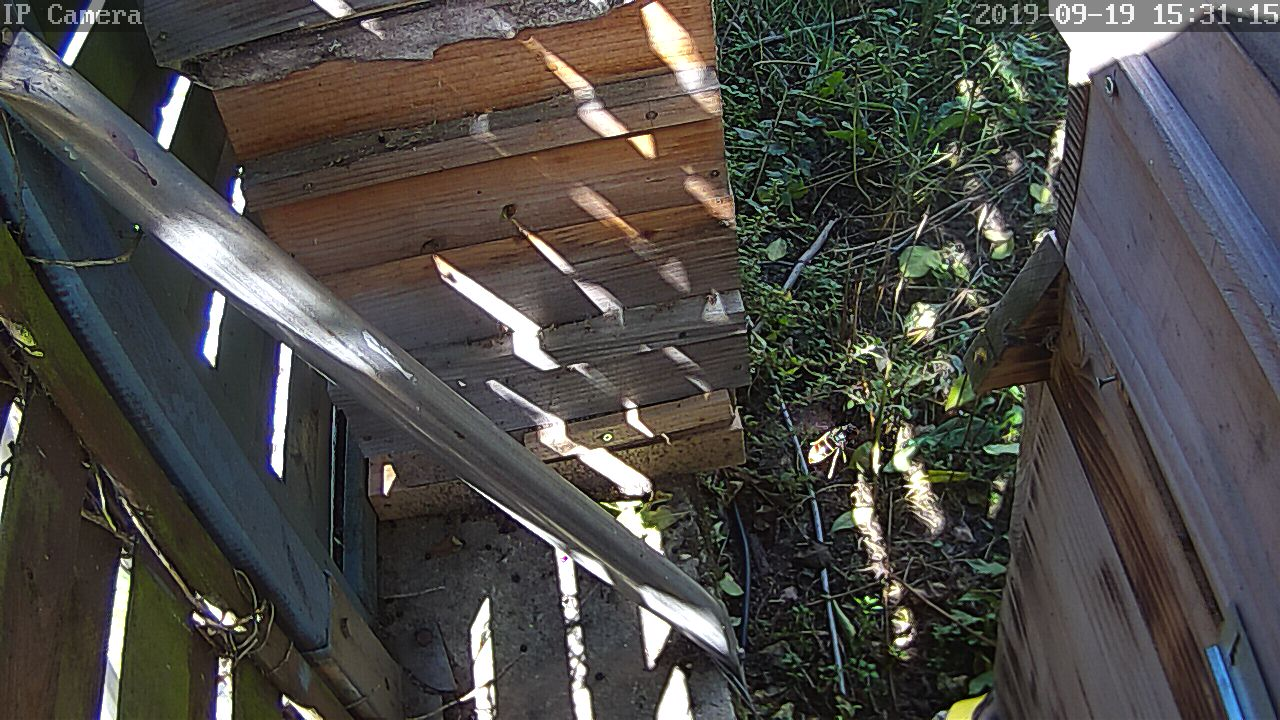hornet: (22, 2, 1251, 720)
